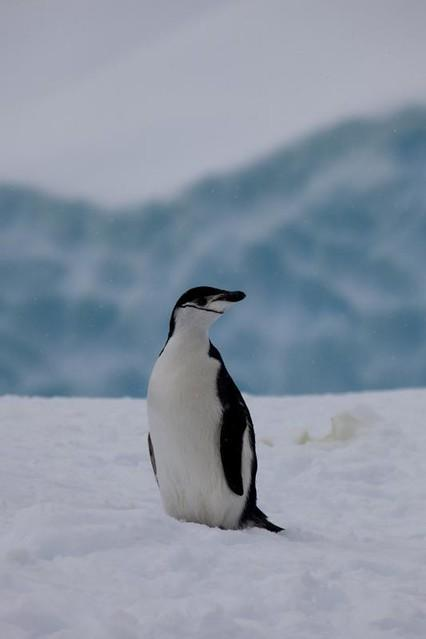chinstrap: (135, 280, 319, 587)
